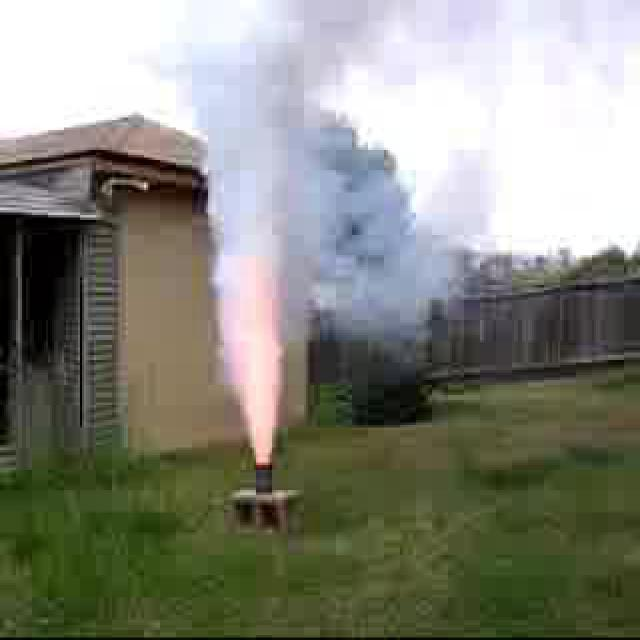Smoke: (184, 53, 324, 444)
